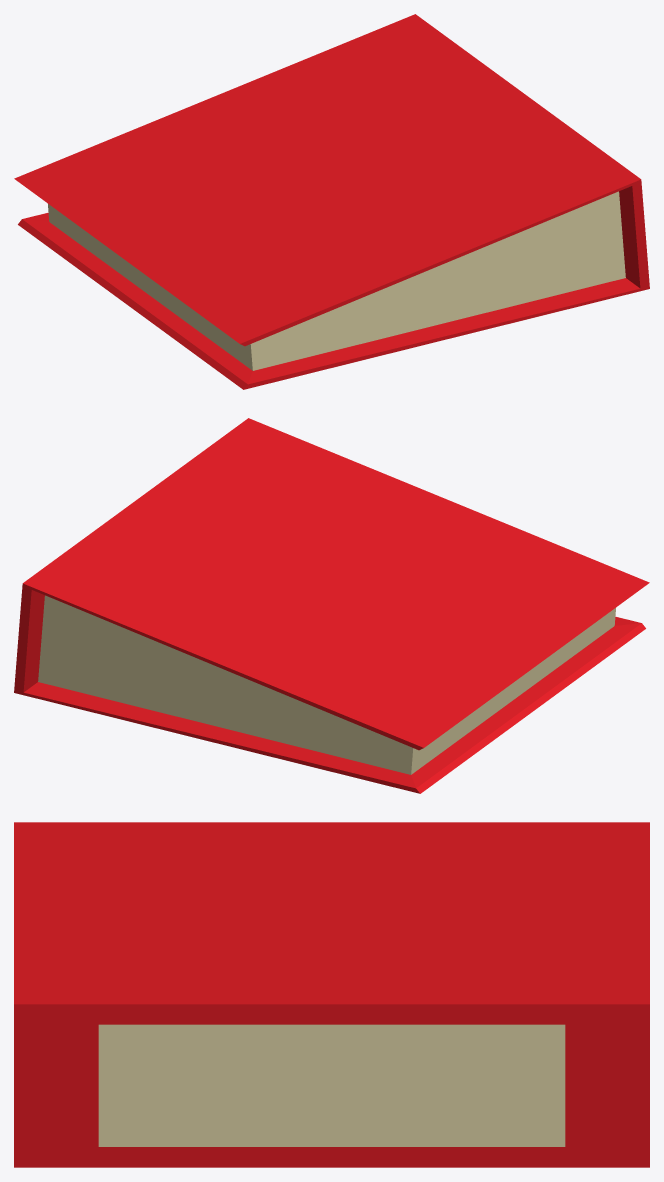
Rendered from Folder_000.glb.
3 views of the same model, one above another, from view 1: azimuth 30°, elevation 25°; view 2: azimuth 150°, elevation 25°; view 3: azimuth 270°, elevation 25° (orthographic). The views are drawn at different scales.
Visible parts, largest first — view 1: Cube; view 2: Cube; view 3: Cube.
Boxes of the visible parts, box(x1,y1,x2,y2) form: Cube: box(14, 14, 649, 389); Cube: box(14, 418, 649, 793); Cube: box(14, 822, 649, 1167).
Bounding box in the file's own units: 0.2758 × 0.0729 × 0.2631.
